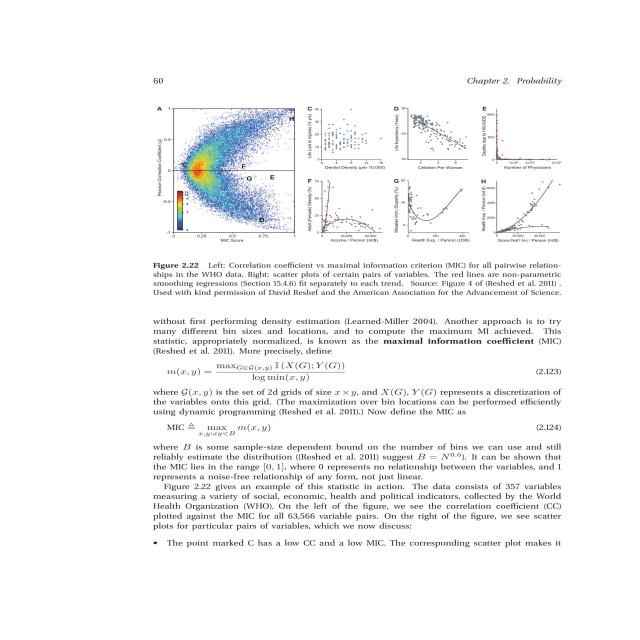diagram: (142, 92, 640, 247)
